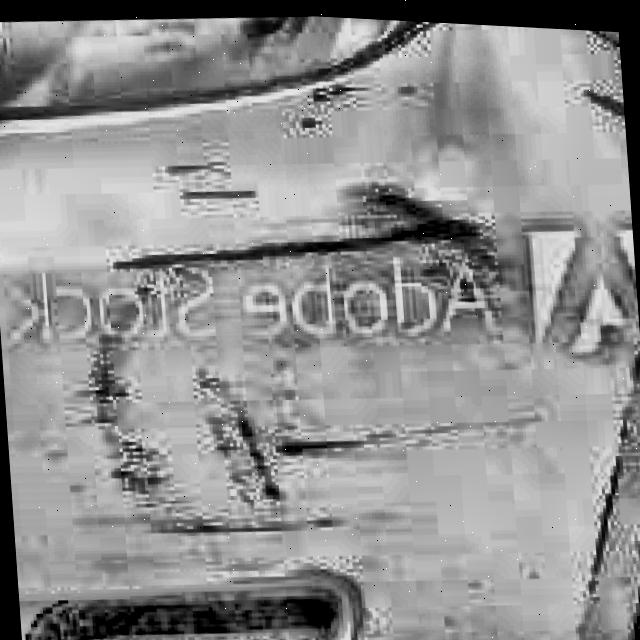bumper_scratch: (74, 130, 522, 553), (284, 61, 428, 149), (572, 70, 626, 154)
